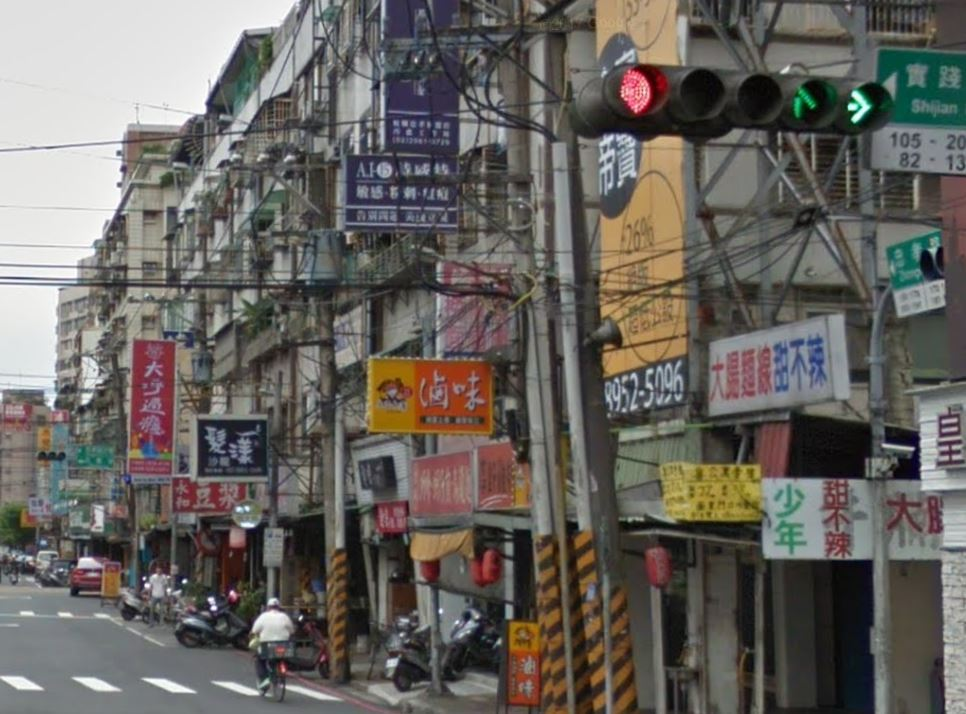Traffic_light_red: (592, 63, 786, 130)
